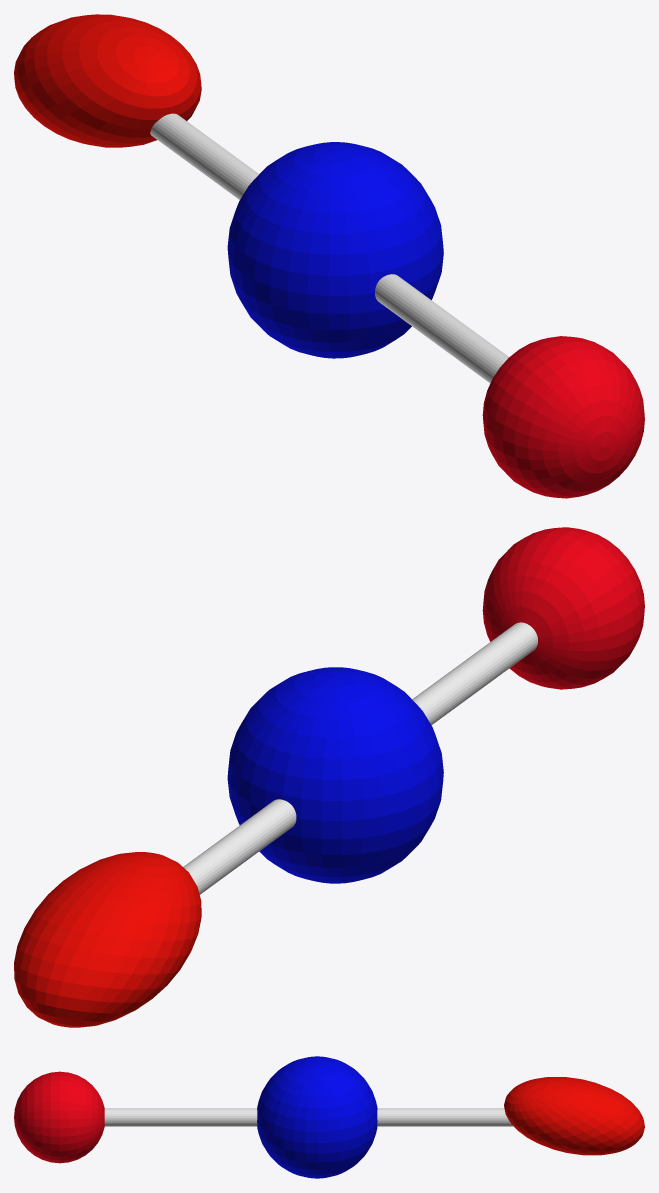
File: doğrusal.gltf
3 renders of one model, top to bottom at view 1: azimuth 30°, elevation 25°; view 2: azimuth 150°, elevation 25°; view 3: azimuth 270°, elevation 25°, orthographic. The views are drawn at different scales.
Parts seen in each view (by area): view 1: Sphere.003, Sphere, Sphere.001, Cylinder.001, Cylinder.002; view 2: Sphere.003, Sphere.001, Sphere, Cylinder.001, Cylinder.002; view 3: Sphere.003, Sphere.001, Sphere, Cylinder.001, Cylinder.002.
Boxes of the visible parts, <box> form: Sphere.003: <box>227,142,443,358</box>; Sphere: <box>482,336,644,498</box>; Sphere.001: <box>14,14,201,147</box>; Cylinder.001: <box>375,274,508,383</box>; Cylinder.002: <box>150,113,259,199</box>; Sphere.003: <box>227,667,443,883</box>; Sphere.001: <box>14,852,201,1027</box>; Sphere: <box>482,527,644,689</box>; Cylinder.001: <box>412,622,537,725</box>; Cylinder.002: <box>183,799,296,894</box>; Sphere.003: <box>257,1056,377,1178</box>; Sphere.001: <box>504,1077,644,1155</box>; Sphere: <box>14,1071,104,1163</box>; Cylinder.001: <box>104,1108,257,1126</box>; Cylinder.002: <box>377,1108,513,1126</box>.
Size of the model in its own units: 2 by 2 by 10.32.
